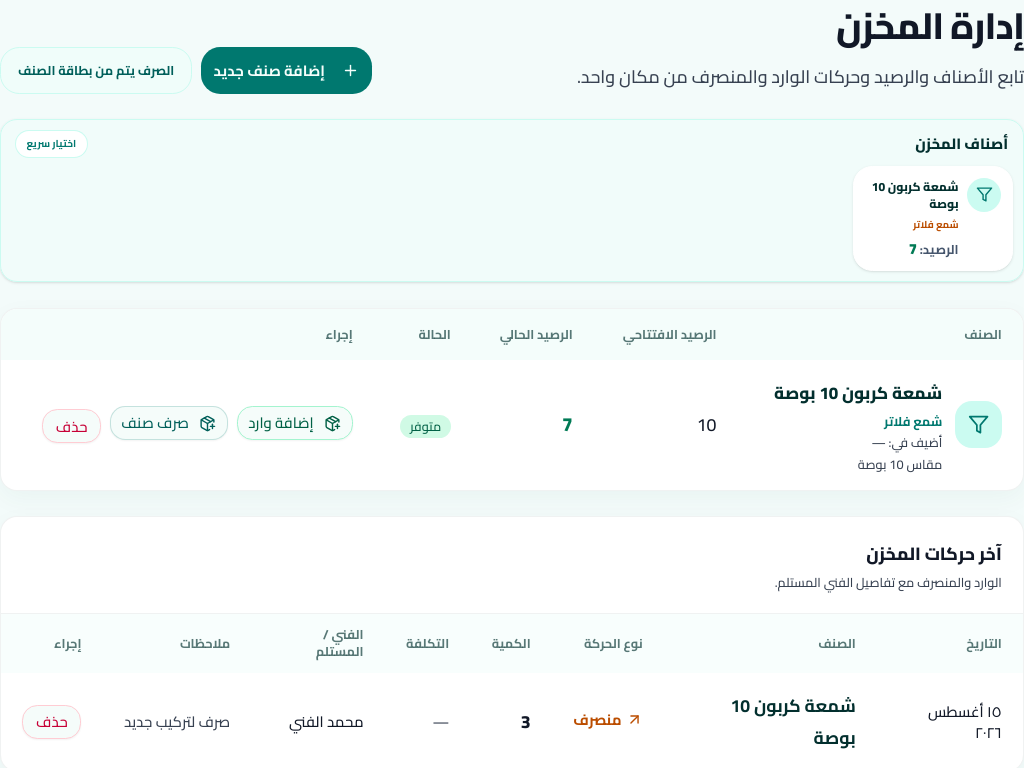
Scenario: تفاصيل المنصرف في المخزون › يفتح زر صرف الصنف نموذج المنصرف مباشرة
Click the button "صرف صنف": {"x": 169, "y": 423} top-left (110, 406), bottom-right (228, 440)
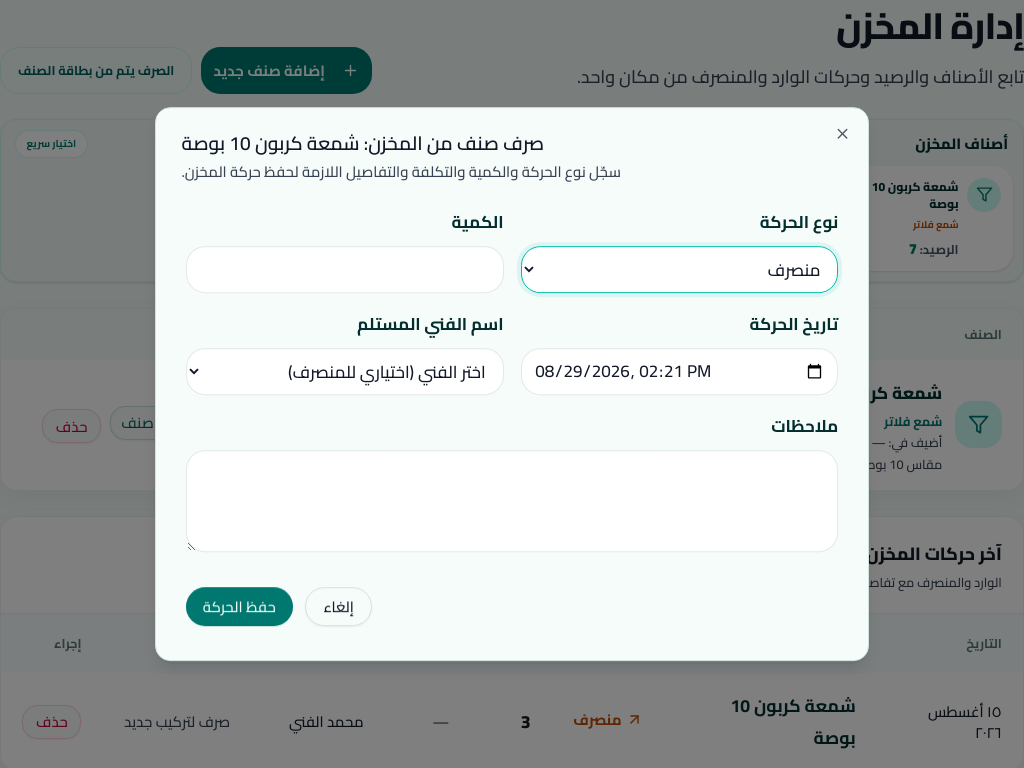
Expected: the heading "صرف صنف من المخزن: شمعة كربون 10 بوصة" is shown, top-left (182, 125), bottom-right (544, 161)
Expected: the dropdown showing "منصرف" is shown, top-left (520, 246), bottom-right (838, 293)
